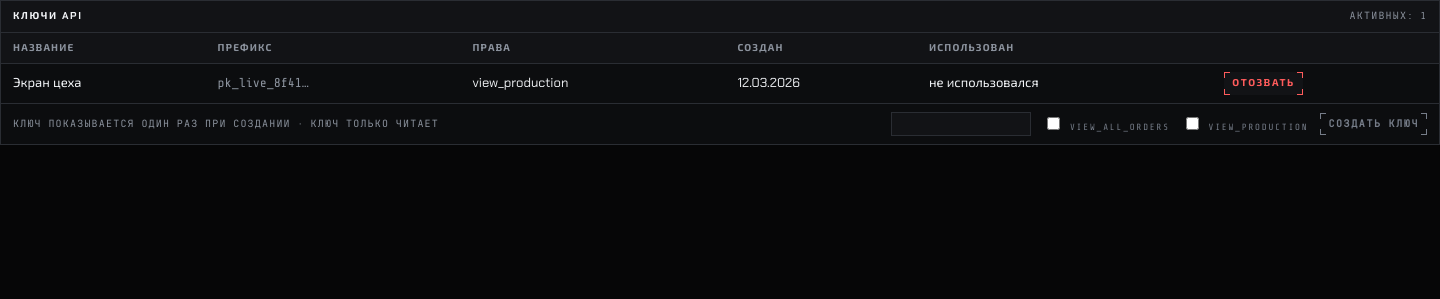
Test: the API keys panel › shows the new key once, and it is gone when the box is dismissed
expect the text "Экран цеха" is shown: met, box x1=1 y1=64 x2=206 y2=102
Type "Выгрузка в 1С" into the field named "Название" at x=961, y=124, box x1=891 y1=112 x2=1031 y2=136
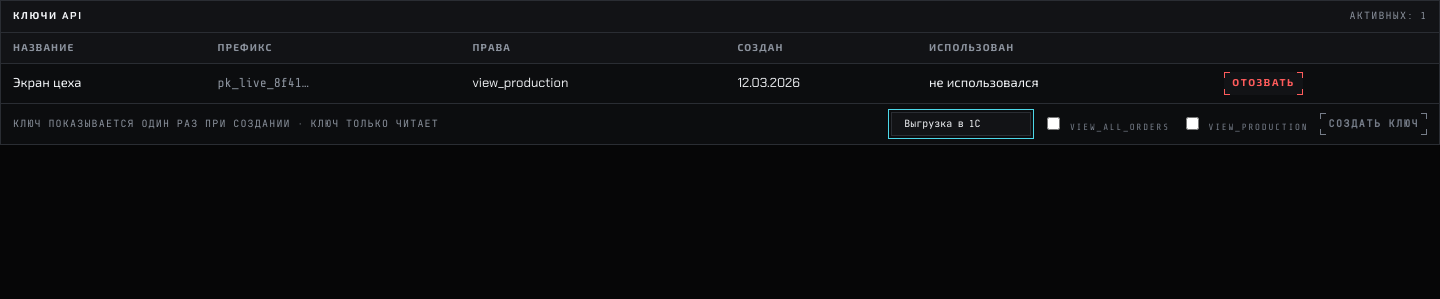
Click the checkbox labelled "view_all_orders" at x=1054, y=123, box x1=1047 y1=117 x2=1060 y2=130
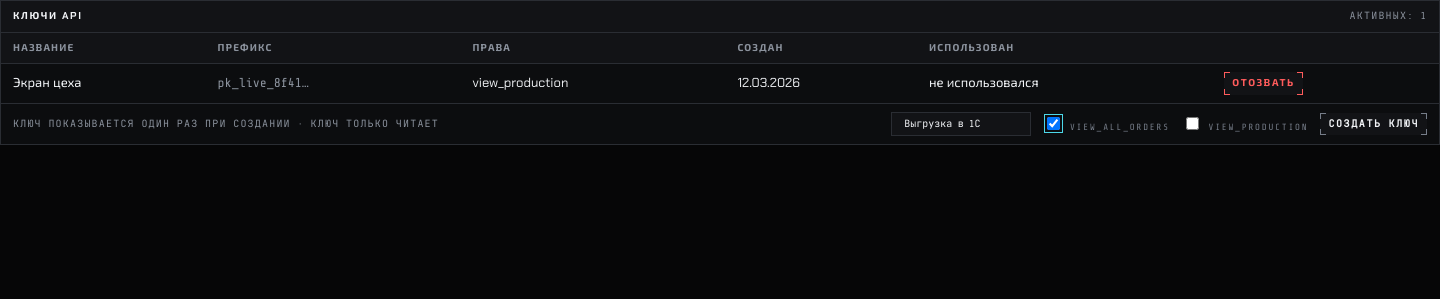
Click the button "Создать ключ" at x=1374, y=124, box x1=1320 y1=112 x2=1427 y2=135
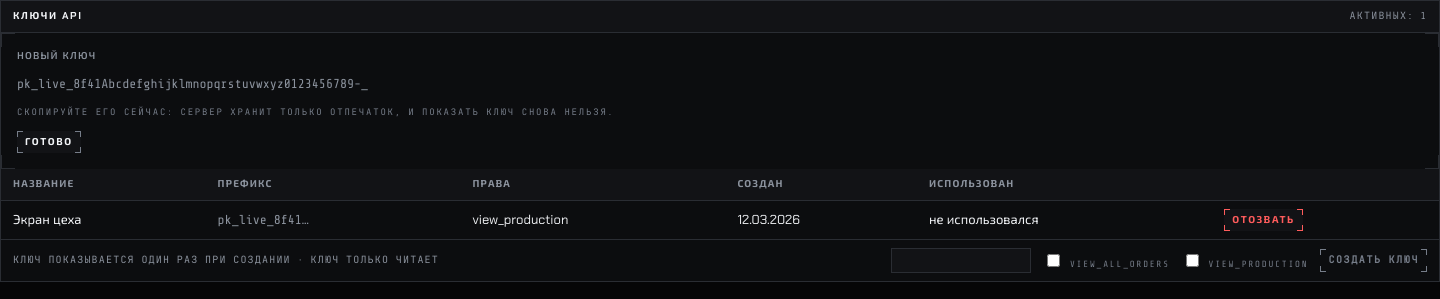
expect the text "pk_live_8f41Abcdefghijklmnopqrstuvwxyz0123456789-_" is shown: met, box x1=17 y1=76 x2=368 y2=91
Click the button "Готово" at x=49, y=142, box x1=17 y1=131 x2=81 y2=153
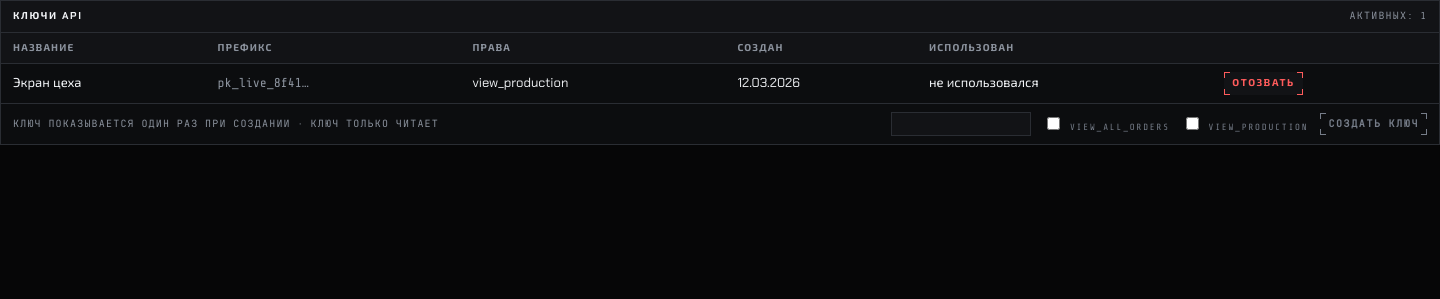
expect the text "pk_live_8f41Abcdefghijklmnopqrstuvwxyz0123456789-_" is gone: met
